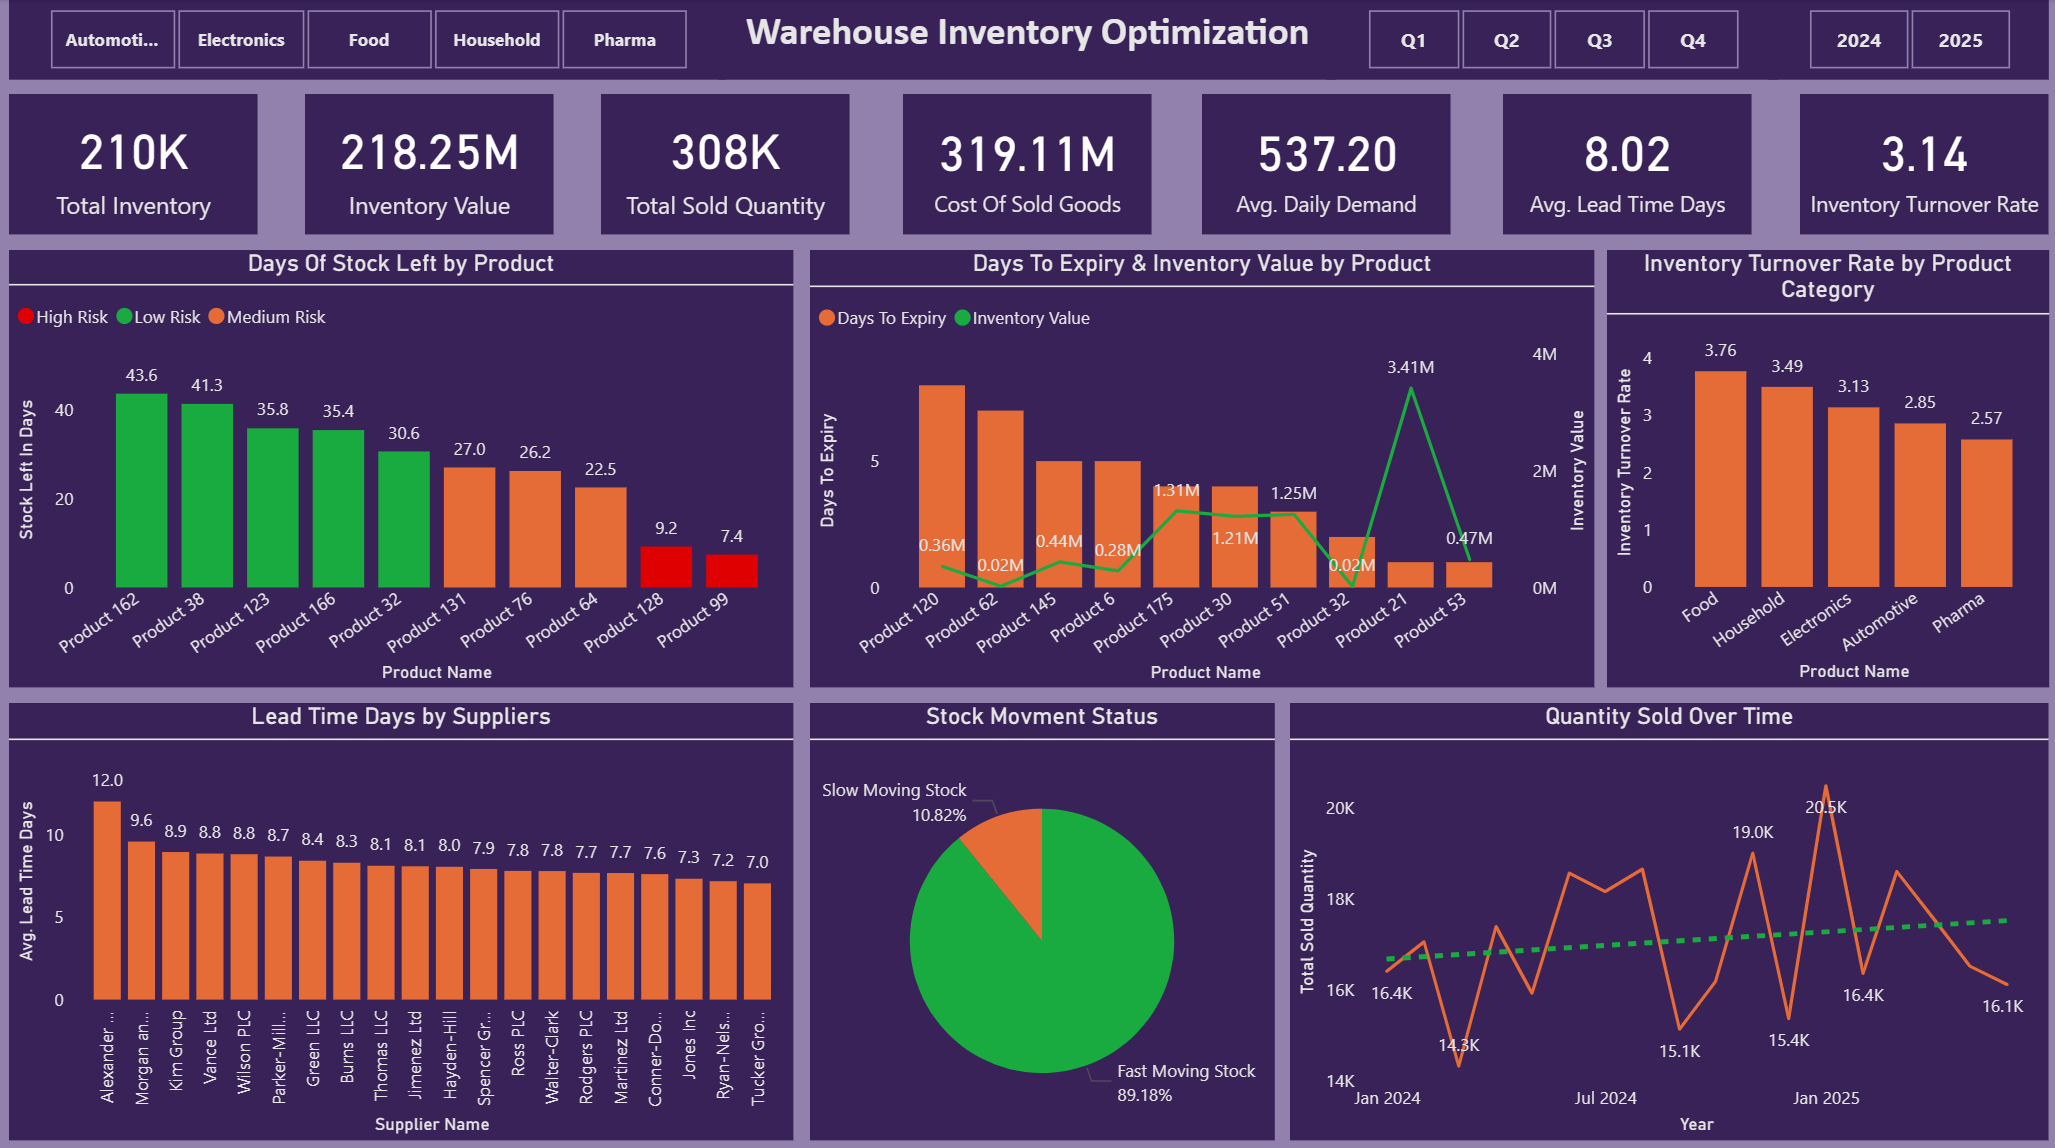

Layout of this report page (visuals, bound fields, positions):
{"tool":"powerbi","page":{"name":"Page 1","canvas":[1280,720],"ordinal":0},"visuals":[{"type":"textbox","box":[448.6,0,382.3,50.2],"z":0},{"type":"card","fields":{"Values":["DAX Measures.Current Inventory"]},"box":[8.7,58.9,154.3,87.4],"z":1000},{"type":"card","fields":{"Values":["DAX Measures.Total Sold Quantity"]},"box":[375.5,58.9,154.3,87.4],"z":2000},{"type":"card","fields":{"Values":["DAX Measures.Inventory Value"]},"box":[192.1,58.9,154.3,87.4],"z":3000},{"type":"card","fields":{"Values":["Q1Solved.AvgDailyDemand"]},"box":[747.9,58.9,154.3,87.4],"z":4000},{"type":"columnChart","title":"Days Of Stock Left by Product","fields":{"Category":["Q1Solved.ProductName"],"Y":["Q1Solved.StockLeftInDays"],"Series":["Q1Solved.StockOutRisk"]},"box":[8.7,155.5,485.8,270.8],"z":5000},{"type":"lineClusteredColumnComboChart","title":"Days To Expiry & Inventory Value by Product","fields":{"Category":["inventory.item_name"],"Y":["DAX Measures.DaysToExpiry"],"Y2":["DAX Measures.Inventory Value"]},"box":[505,155.5,485.8,270.8],"z":6000},{"type":"pieChart","title":"Stock Movment Status","fields":{"Series":["inventory.StockMovmentStatus"],"Y":["DAX Measures.Inventory Value"]},"box":[505,436.2,287.5,270.8],"z":7000},{"type":"columnChart","title":"Inventory Turnover Rate by Product Category","fields":{"Category":["inventory.category"],"Y":["DAX Measures.Inventory Turnover Rate"]},"box":[998.8,155.5,273.9,270.8],"z":8000},{"type":"card","fields":{"Values":["DAX Measures.CostOfSoldGoods"]},"box":[562.6,58.9,154.3,87.4],"z":9000},{"type":"columnChart","title":"Lead Time Days by Suppliers","fields":{"Category":["suppliers.supplier_name"],"Y":["DAX Measures.Avg. Lead Time Days"]},"box":[8.7,436.2,485.8,270.8],"z":10000},{"type":"card","fields":{"Values":["DAX Measures.Avg. Lead Time Days"]},"box":[934.4,58.9,154.3,87.4],"z":11000},{"type":"card","fields":{"Values":["DAX Measures.Inventory Turnover Rate"]},"box":[1118.4,58.9,154.3,87.4],"z":12000},{"type":"slicer","fields":{"Values":["Calender.Year"]},"box":[1098.6,0,174.1,50.2],"z":13000},{"type":"slicer","fields":{"Values":["Calender.Quarters"]},"box":[825.3,0,278.8,50.2],"z":14000},{"type":"slicer","fields":{"Values":["inventory.category"]},"box":[8.7,0,444.3,50.2],"z":15000},{"type":"lineChart","title":"Quantity Sold Over Time","fields":{"Y":["DAX Measures.Total Sold Quantity"],"Category":["Calender.Date.Variation.Date Hierarchy.Year","Calender.Date.Variation.Date Hierarchy.Quarter","Calender.Date.Variation.Date Hierarchy.Month"]},"box":[802.4,436.2,470.3,270.8],"z":16000}]}

Visuals, with their boxes in screenshot pixels (x1, y1, x2, y2), scaled from the page's 1280x720 canvas onto the 2055x1148 screenshot:
textbox: <box>720,0,1334,80</box>
card - DAX Measures.Current Inventory: <box>14,94,262,233</box>
card - DAX Measures.Total Sold Quantity: <box>603,94,851,233</box>
card - DAX Measures.Inventory Value: <box>308,94,556,233</box>
card - Q1Solved.AvgDailyDemand: <box>1201,94,1448,233</box>
"Days Of Stock Left by Product" columnChart: <box>14,248,794,680</box>
"Days To Expiry & Inventory Value by Product" lineClusteredColumnComboChart: <box>811,248,1591,680</box>
"Stock Movment Status" pieChart: <box>811,695,1272,1127</box>
"Inventory Turnover Rate by Product Category" columnChart: <box>1604,248,2043,680</box>
card - DAX Measures.CostOfSoldGoods: <box>903,94,1151,233</box>
"Lead Time Days by Suppliers" columnChart: <box>14,695,794,1127</box>
card - DAX Measures.Avg. Lead Time Days: <box>1500,94,1748,233</box>
card - DAX Measures.Inventory Turnover Rate: <box>1796,94,2043,233</box>
slicer - Calender.Year: <box>1764,0,2043,80</box>
slicer - Calender.Quarters: <box>1325,0,1773,80</box>
slicer - inventory.category: <box>14,0,727,80</box>
"Quantity Sold Over Time" lineChart: <box>1288,695,2043,1127</box>
